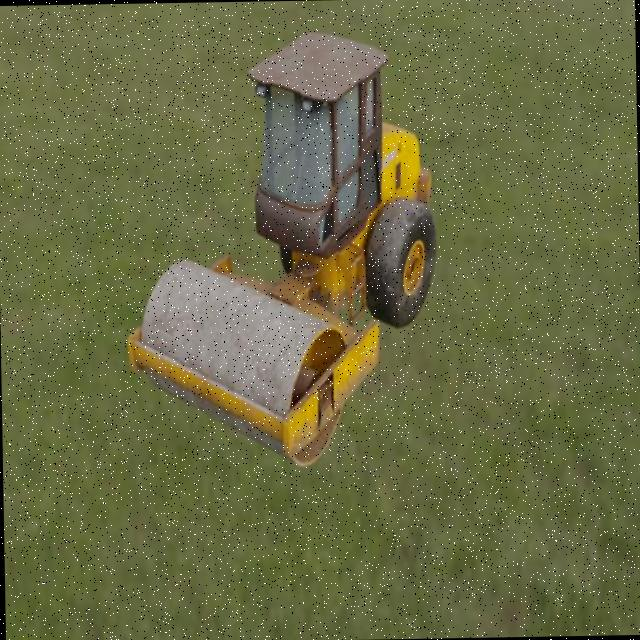Roller: (120, 29, 440, 469)
